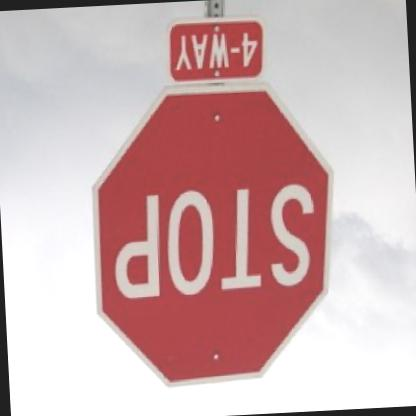stop: (86, 78, 348, 394)
